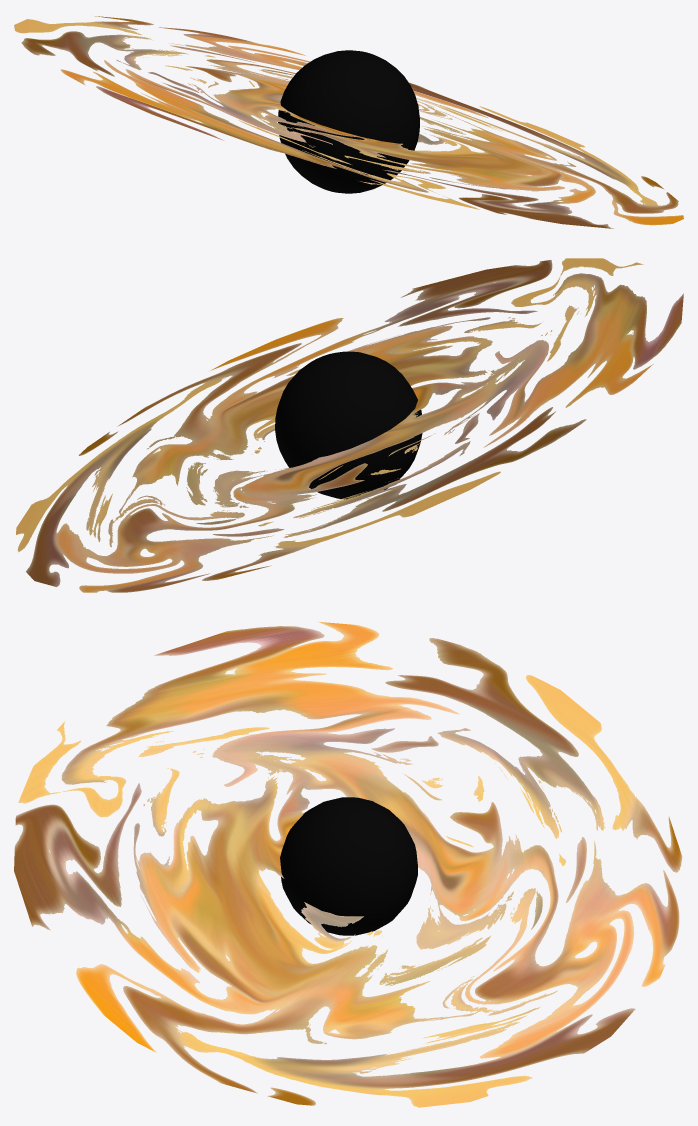
File: Black Hole.fbx
3 renders of one model, top to bottom at view 1: azimuth 30°, elevation 25°; view 2: azimuth 150°, elevation 25°; view 3: azimuth 270°, elevation 25°, orthographic. The views are drawn at different scales.
Visible parts, largest first — view 1: pDisc1, pSphere1; view 2: pDisc1, pSphere1; view 3: pDisc1, pSphere1.
Part boxes in pixels (x1,y1,x2,y2): pDisc1: (14, 16, 683, 228); pSphere1: (278, 50, 419, 193); pDisc1: (16, 258, 683, 592); pSphere1: (275, 351, 422, 499); pDisc1: (14, 621, 682, 1107); pSphere1: (280, 797, 417, 935).
Bounding box in the file's own units: 902 × 359 × 964.
